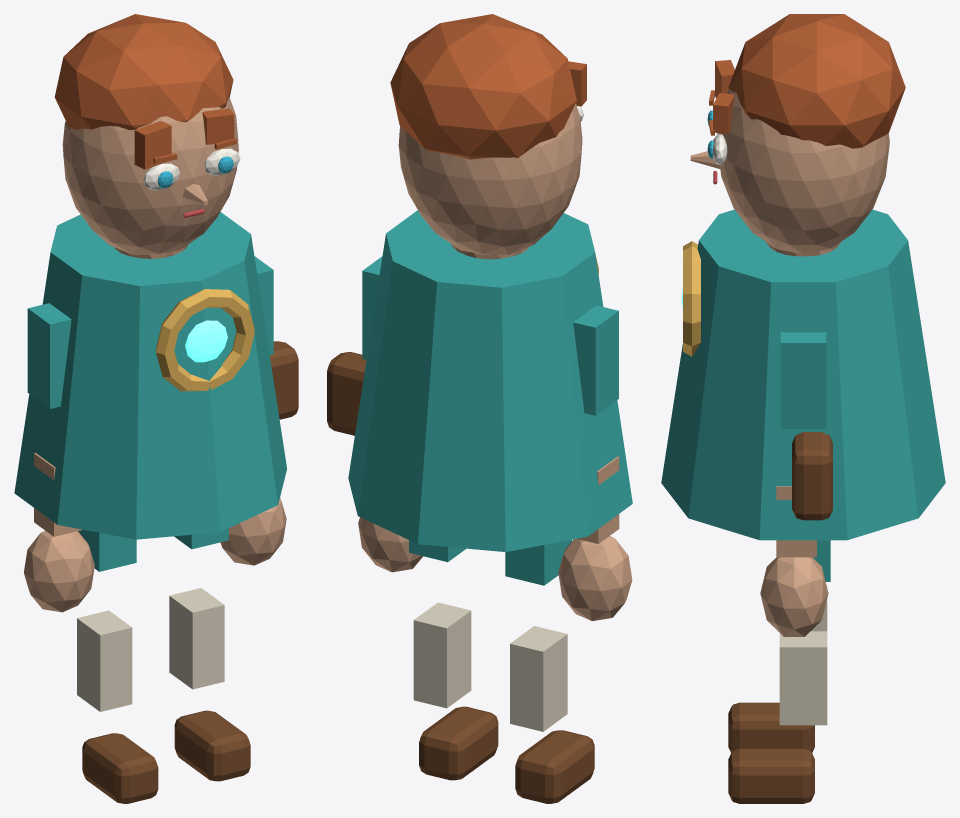
File: nia.glb
The picture shows the model from 3 angles, left to right: view 1: azimuth 30°, elevation 25°; view 2: azimuth 150°, elevation 25°; view 3: azimuth 270°, elevation 25°; orthographic projection. The views are drawn at different scales.
Visible parts, largest first — view 1: Tunic, HairCap, Head, ShinR, ShinL, RiftLens, HandL, BootR, BootL, UpperArmL, HandR, ToolSatchel (+9 smaller); view 2: Tunic, HairCap, Head, ShinR, ShinL, HandL, BootR, BootL, UpperArmL, ToolSatchel, ThighL, HandR (+4 smaller); view 3: Tunic, HairCap, Head, BootR, UpperArmR, ShinR, HandR, ToolSatchel, BootL, RiftLens, ForearmR, HairFringeR (+1 smaller).
Part boxes in pixels (x1,y1,x2,y2): Tunic: (14,212,286,539); HairCap: (54,14,233,129); Head: (62,97,238,254); ShinR: (169,588,224,689); ShinL: (77,610,132,711); RiftLens: (156,289,254,391); HandL: (24,530,94,612); BootR: (174,710,250,781); BootL: (82,733,158,803); UpperArmL: (27,303,71,408); HandR: (220,498,286,565); ToolSatchel: (269,341,298,419); Tunic: (348,210,632,551); HairCap: (390,14,576,159); Head: (398,103,582,255); ShinR: (413,602,471,708); ShinL: (510,626,567,731); HandL: (558,536,632,620); BootR: (419,706,498,780); BootL: (515,730,594,803); UpperArmL: (573,305,618,415); ToolSatchel: (327,352,366,435); ThighL: (505,539,571,585); HandR: (358,517,422,572); Tunic: (661,209,945,540); HairCap: (728,14,905,148); Head: (718,89,889,254); BootR: (728,748,814,803); UpperArmR: (780,332,826,428); ShinR: (779,631,827,725); HandR: (760,557,828,636); ToolSatchel: (792,432,832,520); BootL: (728,702,814,752); RiftLens: (683,241,700,356); ForearmR: (776,486,816,557); HairFringeR: (713,93,734,133).
Size of the model in its own units: 0.7071 by 1.83 by 0.6256.
